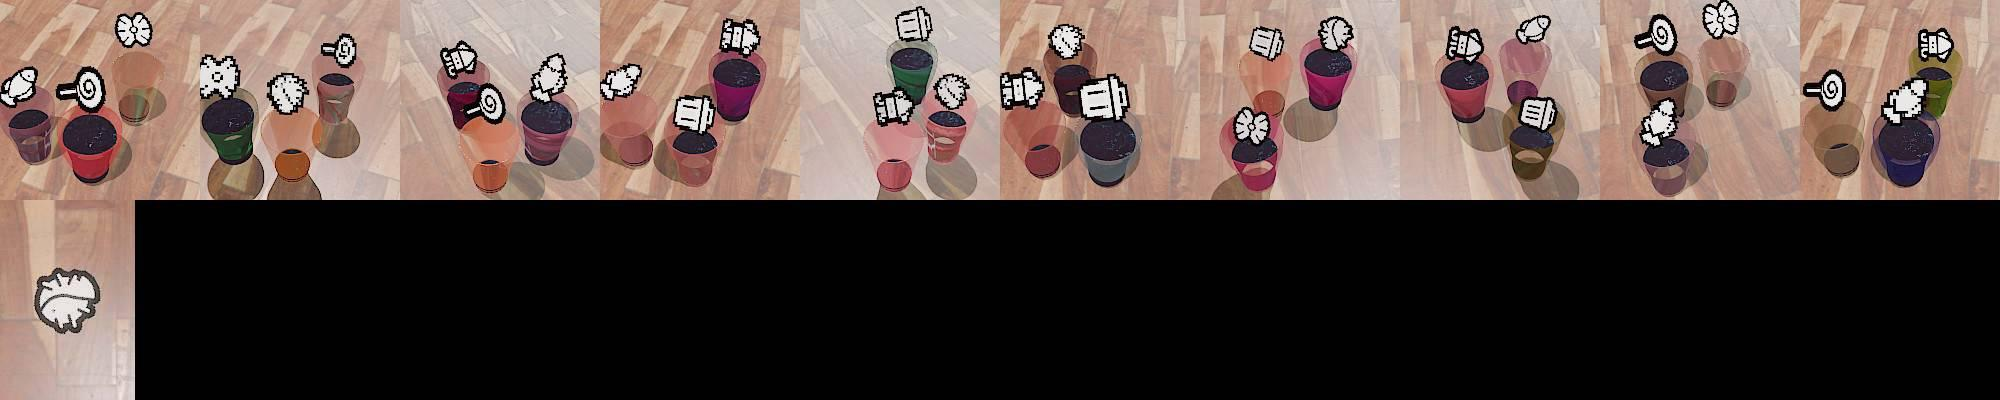icon: (32, 266, 102, 334), (1077, 73, 1130, 122), (54, 65, 107, 113), (1880, 78, 1929, 122), (196, 54, 241, 102), (1639, 97, 1680, 146), (528, 52, 569, 102), (265, 71, 311, 115), (1633, 13, 1679, 56), (999, 68, 1042, 111), (672, 92, 716, 135), (1802, 69, 1847, 111), (466, 83, 508, 125), (872, 88, 916, 127), (719, 17, 763, 56), (599, 62, 644, 101), (0, 65, 40, 107), (1517, 94, 1559, 132), (439, 39, 478, 79), (1702, 0, 1740, 39), (1232, 104, 1269, 145), (932, 71, 969, 110), (115, 11, 153, 48), (1047, 22, 1084, 60), (1445, 25, 1485, 61), (895, 6, 932, 43), (1247, 25, 1286, 61), (320, 33, 358, 69), (1316, 17, 1353, 52), (1917, 27, 1954, 62), (1517, 14, 1552, 46)
